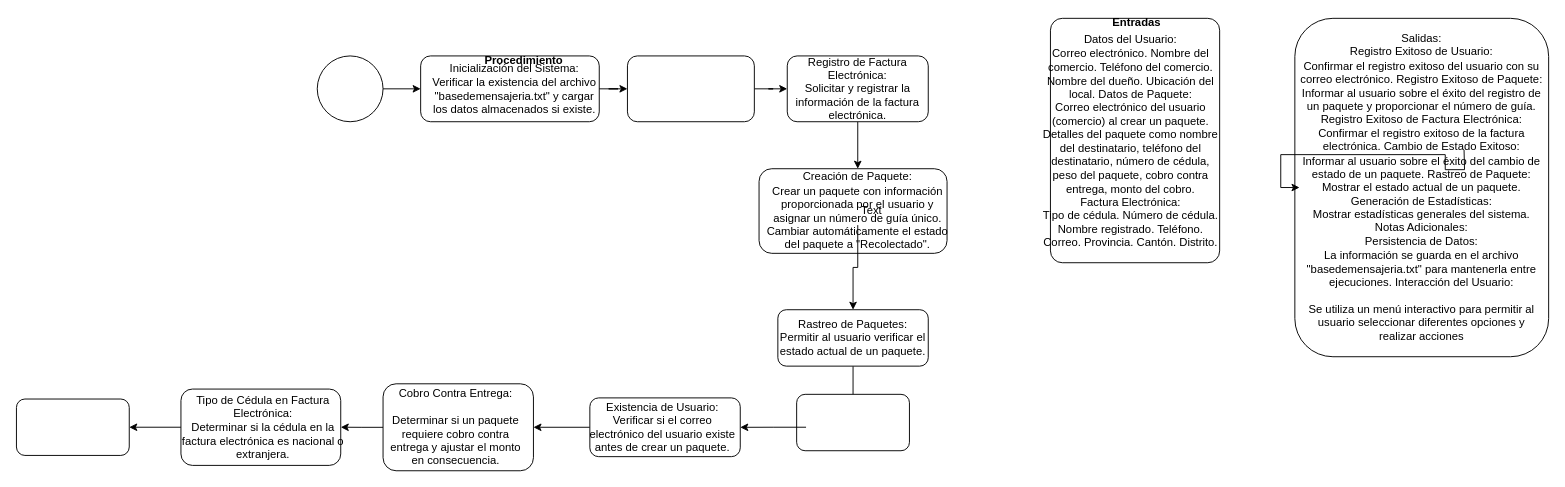
The diagram is 1565 pixels wide and 487 high, and some of its shapes have lost their labels. The shapes that lost their labels are listed below. From the top down, each one's box as (x1, y1, x2, y2) in pixels, then its label:
(627, 55, 754, 122): Registro de Usuario: Solicitar y registrar la información del usuario (comercio
(796, 393, 909, 451): Condiciones
